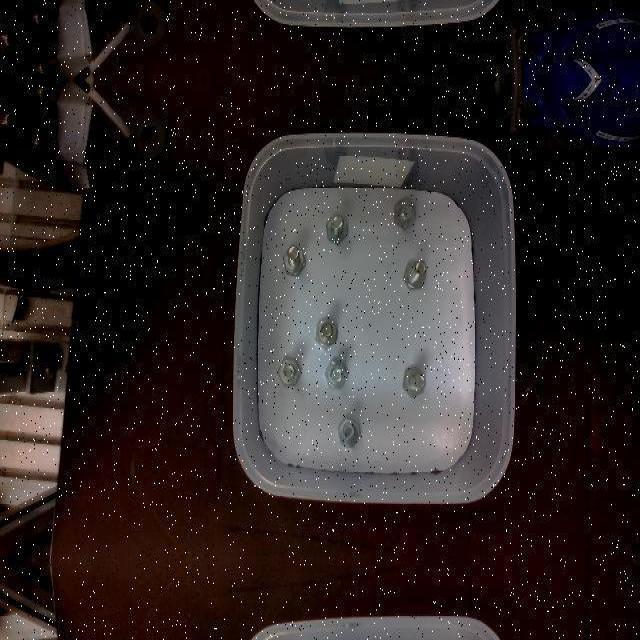screw: (336, 415, 360, 449), (315, 315, 338, 349), (401, 366, 425, 398), (393, 196, 415, 230), (402, 259, 426, 289), (277, 356, 301, 386), (324, 358, 348, 388), (284, 244, 306, 276), (326, 212, 348, 244)
